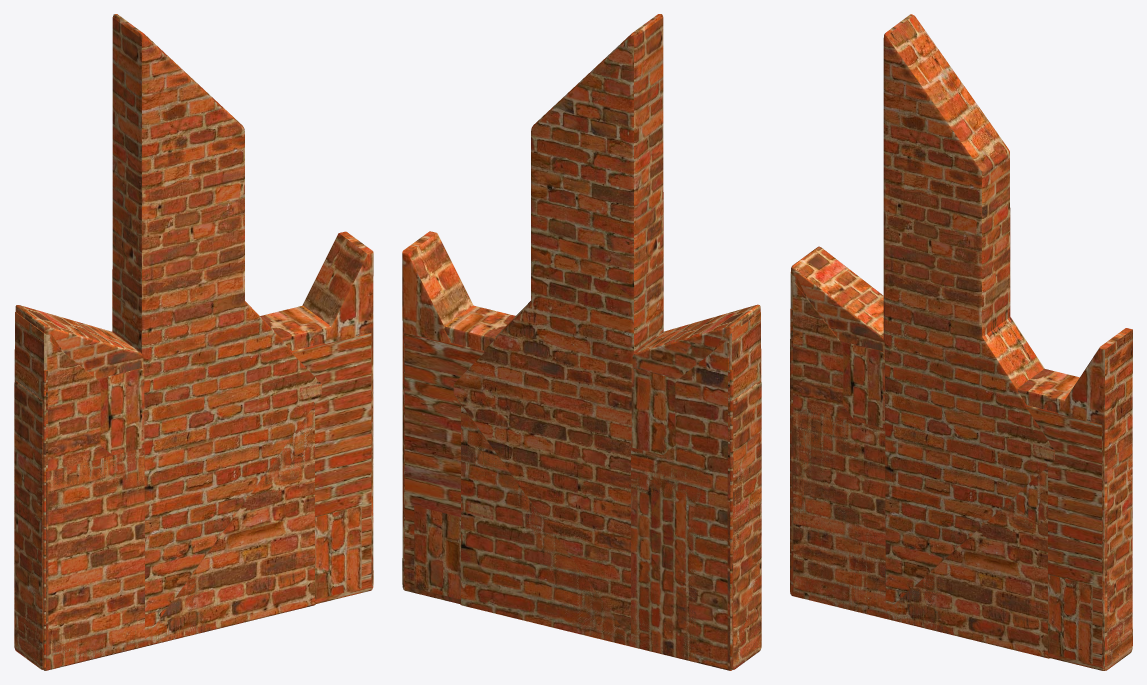
The model's file is qiang.fbx.
3 views of the same model, side by side, from view 1: azimuth 30°, elevation 25°; view 2: azimuth 150°, elevation 25°; view 3: azimuth 330°, elevation 25° (orthographic). The views are drawn at different scales.
Parts seen in each view (by area): view 1: pCube26, pCube18, pCube34, pCube24, pCube35, pCube36, pCube21, pCube19, pCube29, pCube37; view 2: pCube26, pCube18, pCube21, pCube34, pCube24, pCube35, pCube36, pCube29, pCube19, pCube37; view 3: pCube26, pCube18, pCube34, pCube21, pCube24, pCube35, pCube19, pCube36, pCube29, pCube37.
Part boxes in pixels (x1,y1,x2,y2): pCube26: [112, 14, 321, 638]; pCube18: [47, 341, 315, 667]; pCube34: [14, 333, 372, 669]; pCube24: [15, 231, 373, 585]; pCube35: [97, 367, 361, 599]; pCube36: [14, 381, 373, 667]; pCube21: [44, 407, 314, 670]; pCube19: [15, 305, 143, 378]; pCube29: [14, 428, 373, 669]; pCube37: [43, 305, 331, 667]; pCube26: [453, 14, 663, 638]; pCube18: [460, 341, 728, 669]; pCube21: [462, 412, 731, 670]; pCube34: [403, 333, 761, 669]; pCube24: [402, 231, 760, 585]; pCube35: [414, 367, 678, 599]; pCube36: [403, 380, 761, 666]; pCube29: [402, 431, 761, 669]; pCube19: [632, 304, 760, 378]; pCube37: [444, 305, 732, 667]; pCube26: [883, 14, 1054, 611]; pCube18: [792, 282, 1049, 658]; pCube34: [790, 308, 1104, 670]; pCube21: [791, 405, 1047, 655]; pCube24: [790, 272, 1132, 667]; pCube35: [840, 341, 1092, 663]; pCube19: [791, 246, 884, 351]; pCube36: [790, 339, 1132, 668]; pCube29: [790, 385, 1132, 670]; pCube37: [790, 368, 1079, 591].
Bounding box in the file's own units: 0.2813 × 0.496 × 0.0451.
1 material, 1 textured.
